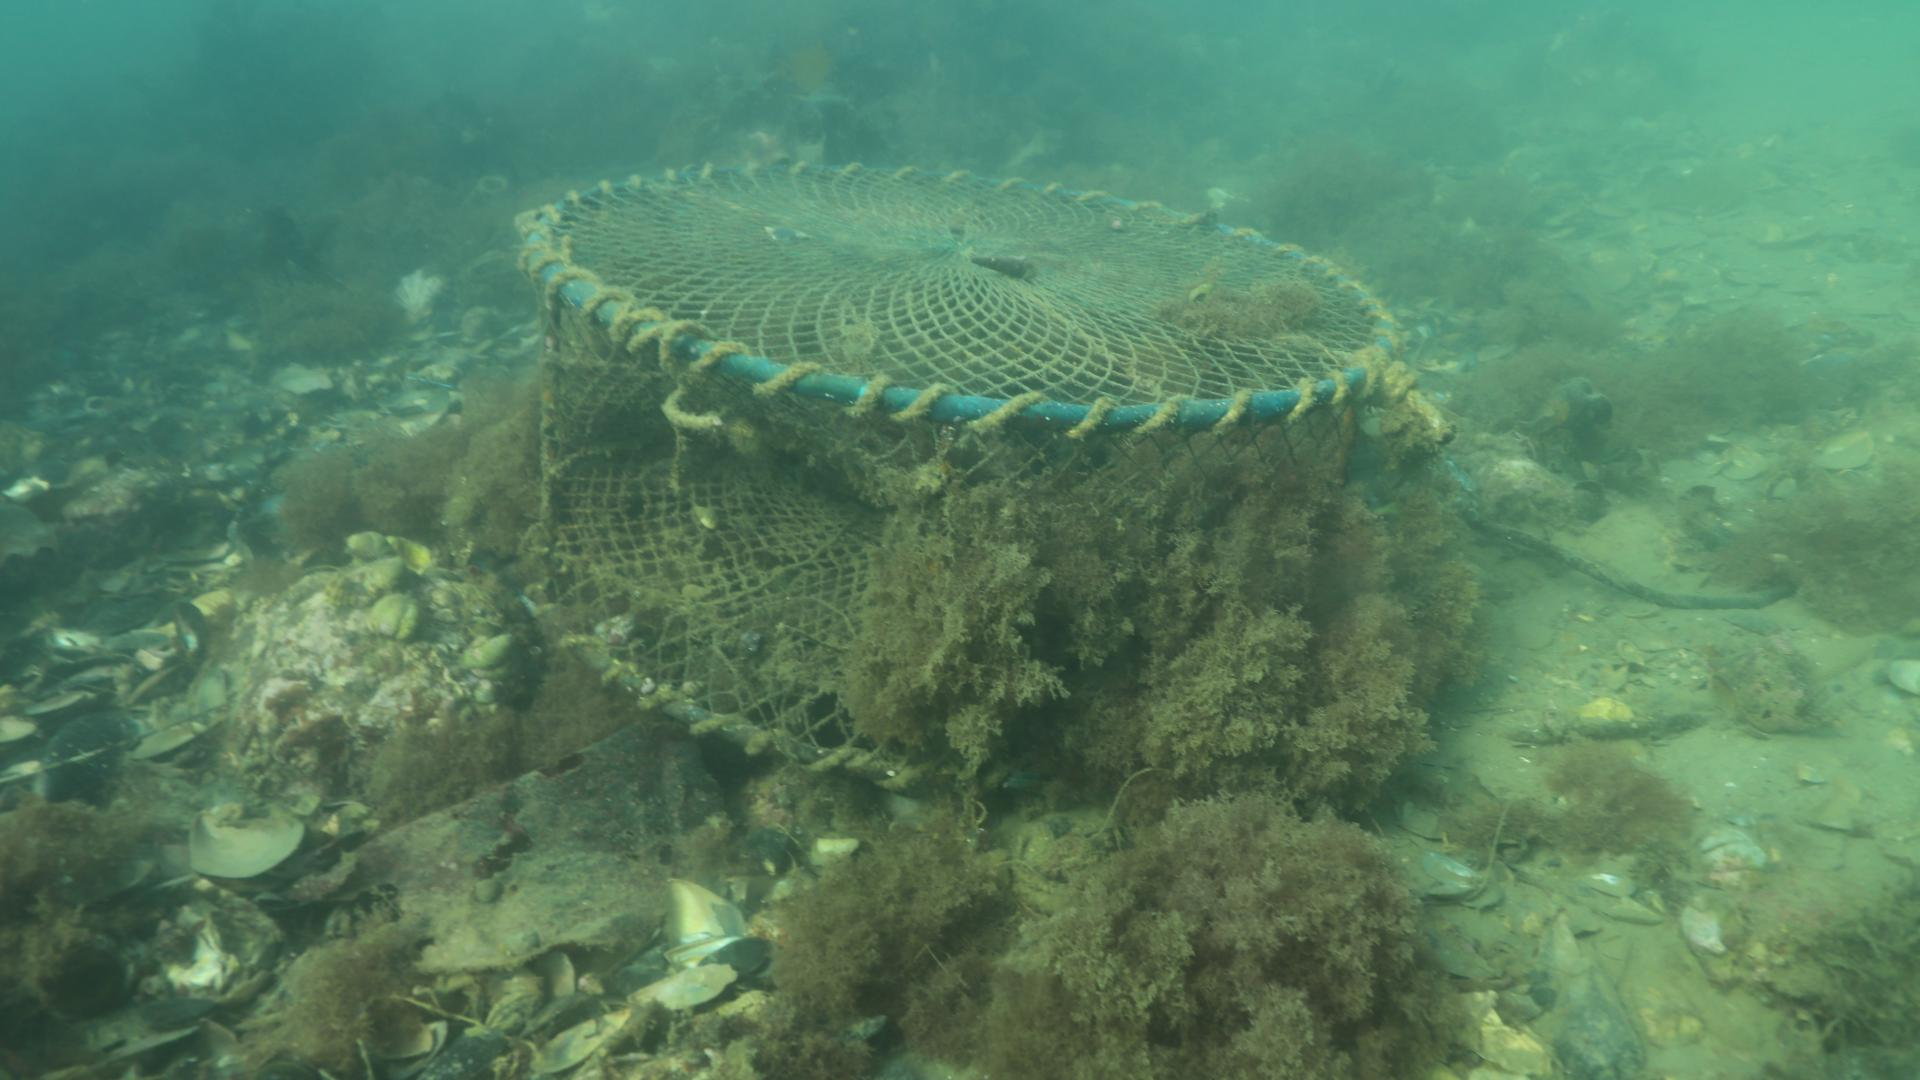circular fish trap: (512, 158, 1410, 810)
